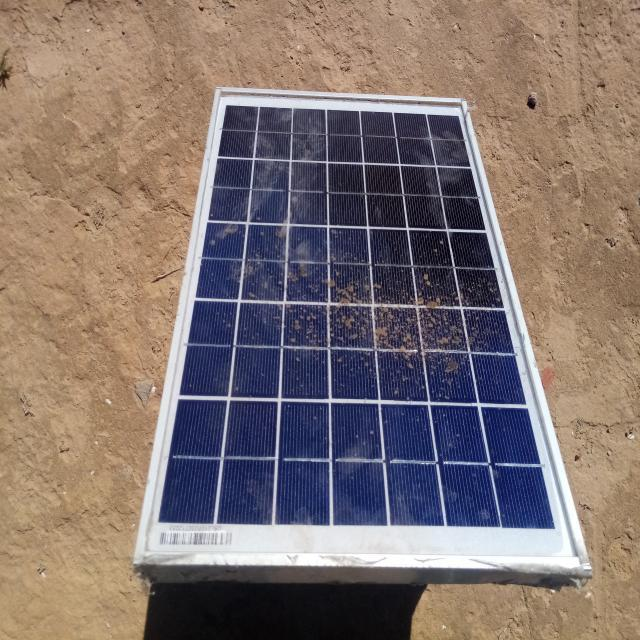faulty: (138, 88, 587, 564)
